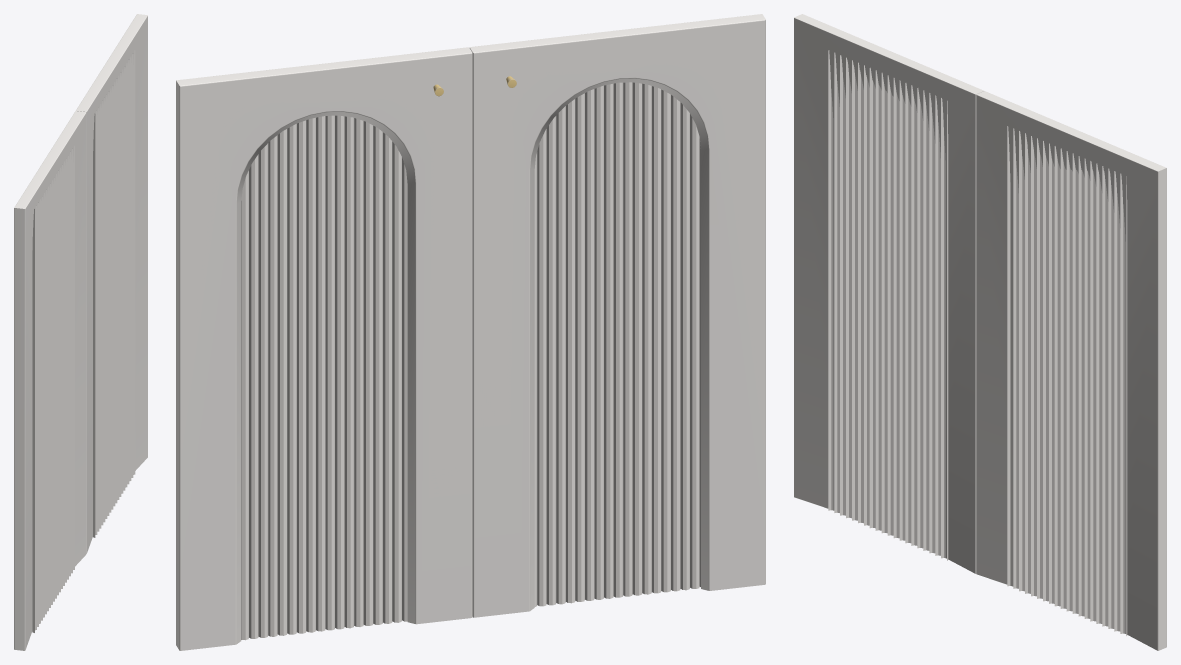
Rendered from tvtable_0203_door.glb.
The picture shows the model from 3 angles, left to right: view 1: azimuth 30°, elevation 25°; view 2: azimuth 150°, elevation 25°; view 3: azimuth 270°, elevation 25°; orthographic projection. The views are drawn at different scales.
Parts seen in each view (by area): view 1: tvtable_0203_door; view 2: tvtable_0203_door; view 3: tvtable_0203_door.
Part boxes in pixels (x1,y1,x2,y2): tvtable_0203_door: (14,14,147,650); tvtable_0203_door: (176,14,765,650); tvtable_0203_door: (794,14,1166,650).
Bounding box in the file's own units: 0.5793 × 0.8224 × 0.5793.
1 material, 1 textured.
